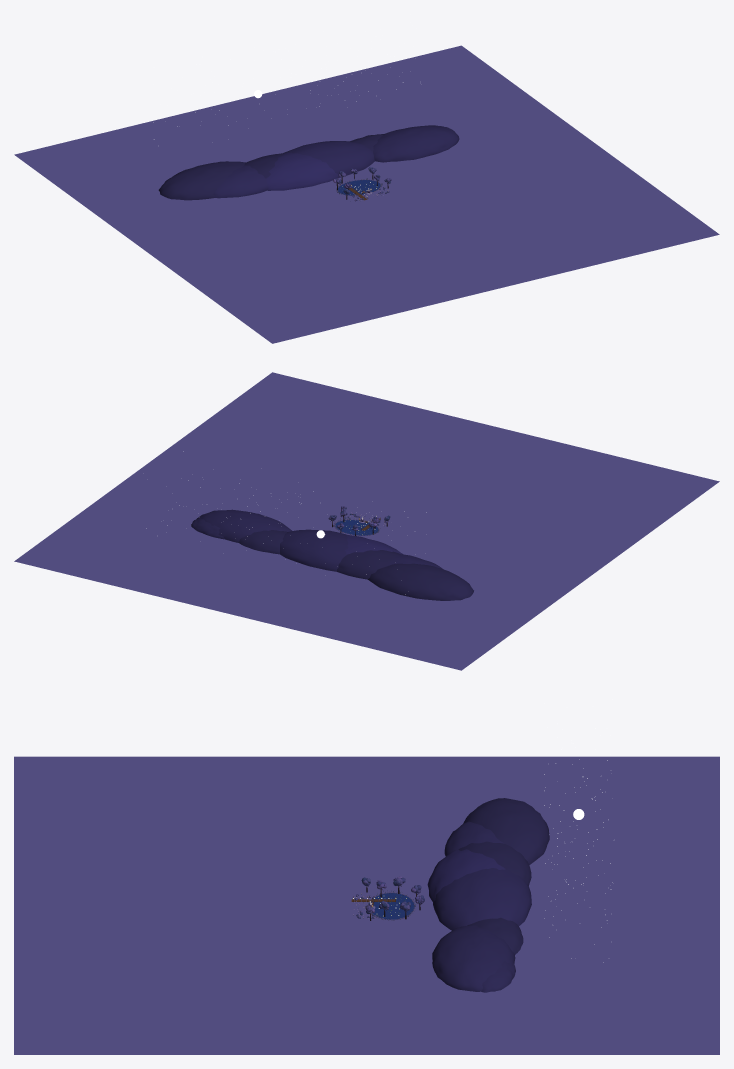
Rendered from C_garden.glb.
3 views of the same model, one above another, from view 1: azimuth 30°, elevation 25°; view 2: azimuth 150°, elevation 25°; view 3: azimuth 270°, elevation 25° (orthographic). The views are drawn at different scales.
Visible parts, largest first — view 1: environment_2, environment_4, environment_3, environment_6, environment_5; view 2: environment_2, environment_3, environment_4, environment_6, environment_5; view 3: environment_2, environment_4, environment_3, environment_6, environment_5, environment_8, environment_7.
Boxes of the visible parts, bbox=[...] form: environment_2: bbox=[14, 45, 719, 343]; environment_4: bbox=[213, 141, 374, 198]; environment_3: bbox=[158, 134, 383, 200]; environment_6: bbox=[373, 126, 459, 162]; environment_5: bbox=[266, 152, 338, 190]; environment_2: bbox=[14, 372, 719, 670]; environment_3: bbox=[239, 530, 473, 600]; environment_4: bbox=[280, 529, 443, 571]; environment_6: bbox=[196, 509, 291, 542]; environment_5: bbox=[345, 534, 403, 554]; environment_2: bbox=[14, 756, 719, 1054]; environment_4: bbox=[433, 821, 531, 930]; environment_3: bbox=[458, 798, 549, 954]; environment_6: bbox=[432, 925, 515, 991]; environment_5: bbox=[427, 849, 505, 901]; environment_8: bbox=[369, 893, 414, 919]; environment_7: bbox=[481, 961, 515, 992].
Bounding box in the file's own units: 200 × 48.83 × 200.
Materials: 83 (2 with a texture image).
